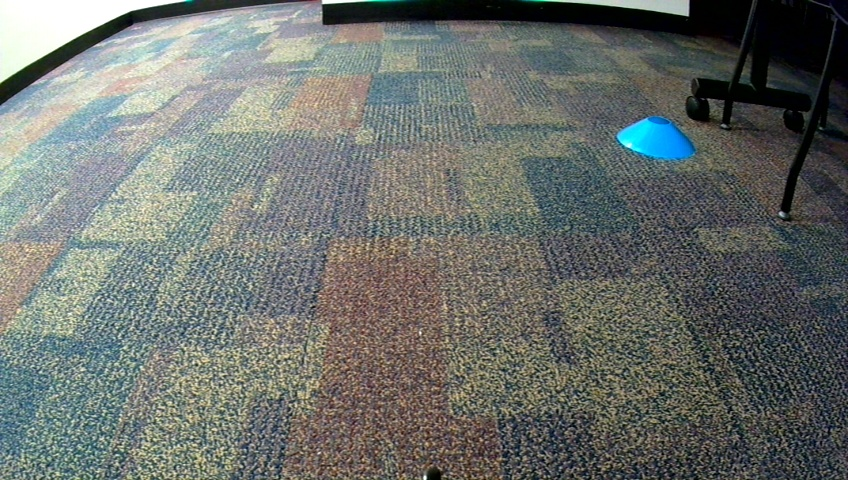cone: (615, 117, 698, 160)
